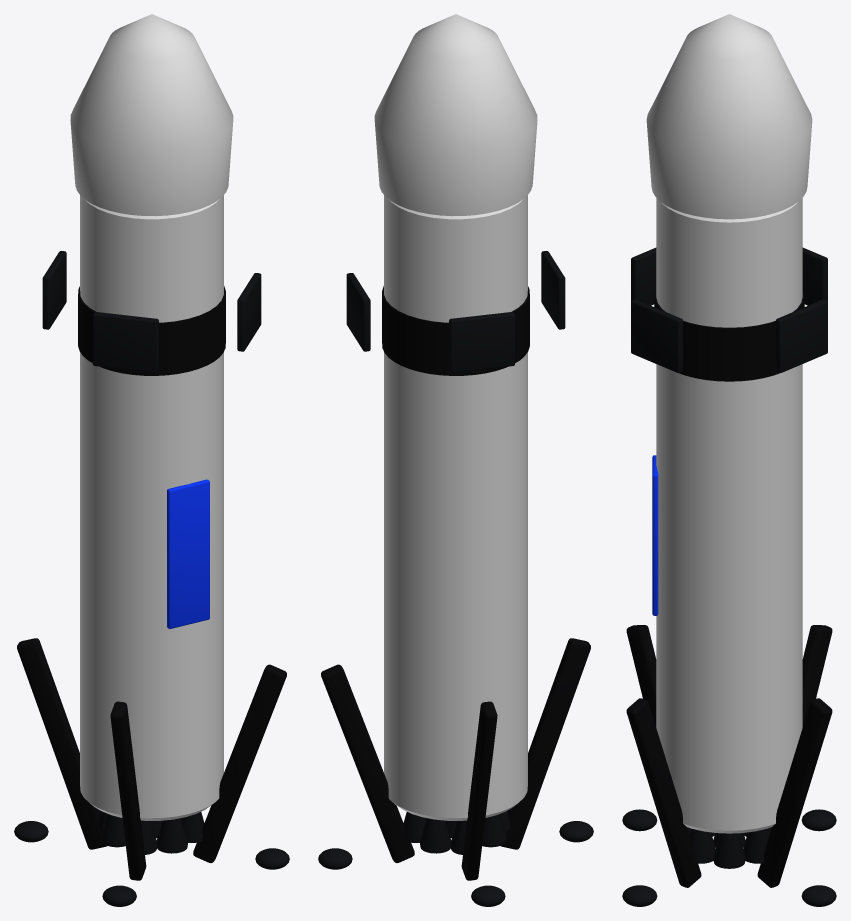
The model's file is Rocket_15_Reusable.obj.
The picture shows the model from 3 angles, left to right: view 1: azimuth 30°, elevation 25°; view 2: azimuth 150°, elevation 25°; view 3: azimuth 270°, elevation 25°; orthographic projection.
Parts seen in each view (by area): view 1: R15_Body, R15_Fairing, R15_Logo, R15_Leg_4, R15_Leg_2, R15_Interstage, R15_GridFin_3, R15_Leg_3, R15_GridFin_4, R15_GridFin_2, R15_Nozzle_7, R15_Nozzle_5 (+3 smaller); view 2: R15_Body, R15_Fairing, R15_Leg, R15_Leg_3, R15_Interstage, R15_GridFin_2, R15_Leg_2, R15_GridFin, R15_GridFin_3, R15_Nozzle_3, R15_Nozzle_5, R15_Foot_3 (+2 smaller); view 3: R15_Body, R15_Fairing, R15_Interstage, R15_Leg, R15_Leg_4, R15_GridFin, R15_GridFin_4, R15_Leg_2, R15_Leg_3, R15_GridFin_2, R15_GridFin_3, R15_Logo (+7 smaller).
Boxes of the visible parts, bbox=[...] form: R15_Body: bbox=[80, 195, 223, 820]; R15_Fairing: bbox=[70, 14, 233, 216]; R15_Logo: bbox=[167, 479, 209, 628]; R15_Leg_4: bbox=[193, 664, 286, 862]; R15_Leg_2: bbox=[17, 638, 106, 849]; R15_Interstage: bbox=[78, 286, 225, 375]; R15_GridFin_3: bbox=[93, 312, 158, 372]; R15_Leg_3: bbox=[110, 701, 146, 880]; R15_GridFin_4: bbox=[237, 273, 261, 351]; R15_GridFin_2: bbox=[42, 251, 66, 329]; R15_Nozzle_7: bbox=[156, 818, 187, 853]; R15_Nozzle_5: bbox=[101, 813, 125, 847]; R15_Body: bbox=[384, 195, 527, 820]; R15_Fairing: bbox=[374, 14, 537, 216]; R15_Leg: bbox=[321, 664, 414, 862]; R15_Leg_3: bbox=[501, 638, 590, 849]; R15_Interstage: bbox=[382, 286, 529, 375]; R15_GridFin_2: bbox=[449, 312, 514, 372]; R15_Leg_2: bbox=[461, 701, 497, 880]; R15_GridFin: bbox=[346, 273, 370, 351]; R15_GridFin_3: bbox=[541, 251, 565, 329]; R15_Nozzle_3: bbox=[420, 818, 451, 853]; R15_Nozzle_5: bbox=[482, 813, 506, 847]; R15_Foot_3: bbox=[559, 821, 593, 842]; R15_Body: bbox=[656, 198, 802, 833]; R15_Fairing: bbox=[646, 14, 812, 219]; R15_Interstage: bbox=[654, 290, 804, 381]; R15_Leg: bbox=[757, 698, 832, 887]; R15_Leg_4: bbox=[626, 698, 701, 887]; R15_GridFin: bbox=[776, 299, 827, 372]; R15_GridFin_4: bbox=[631, 299, 682, 372]; R15_Leg_2: bbox=[802, 625, 832, 726]; R15_Leg_3: bbox=[626, 625, 656, 726]; R15_GridFin_2: bbox=[802, 247, 827, 305]; R15_GridFin_3: bbox=[631, 247, 656, 305]; R15_Logo: bbox=[652, 455, 658, 615].
Size of the model in its own units: 2.2 by 9.66 by 2.2.
